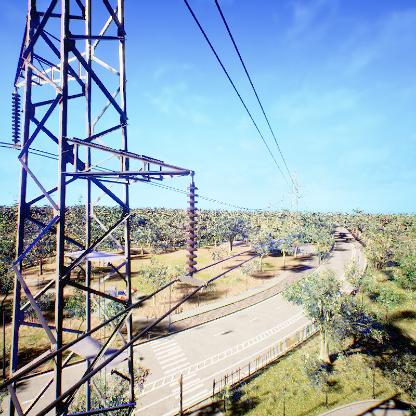insulator: (185, 184, 199, 276), (9, 92, 20, 146)
